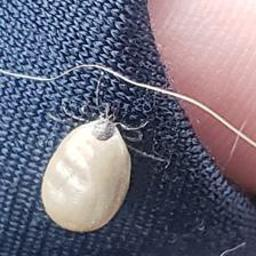Ixodes scapularis: (41, 82, 161, 230)
